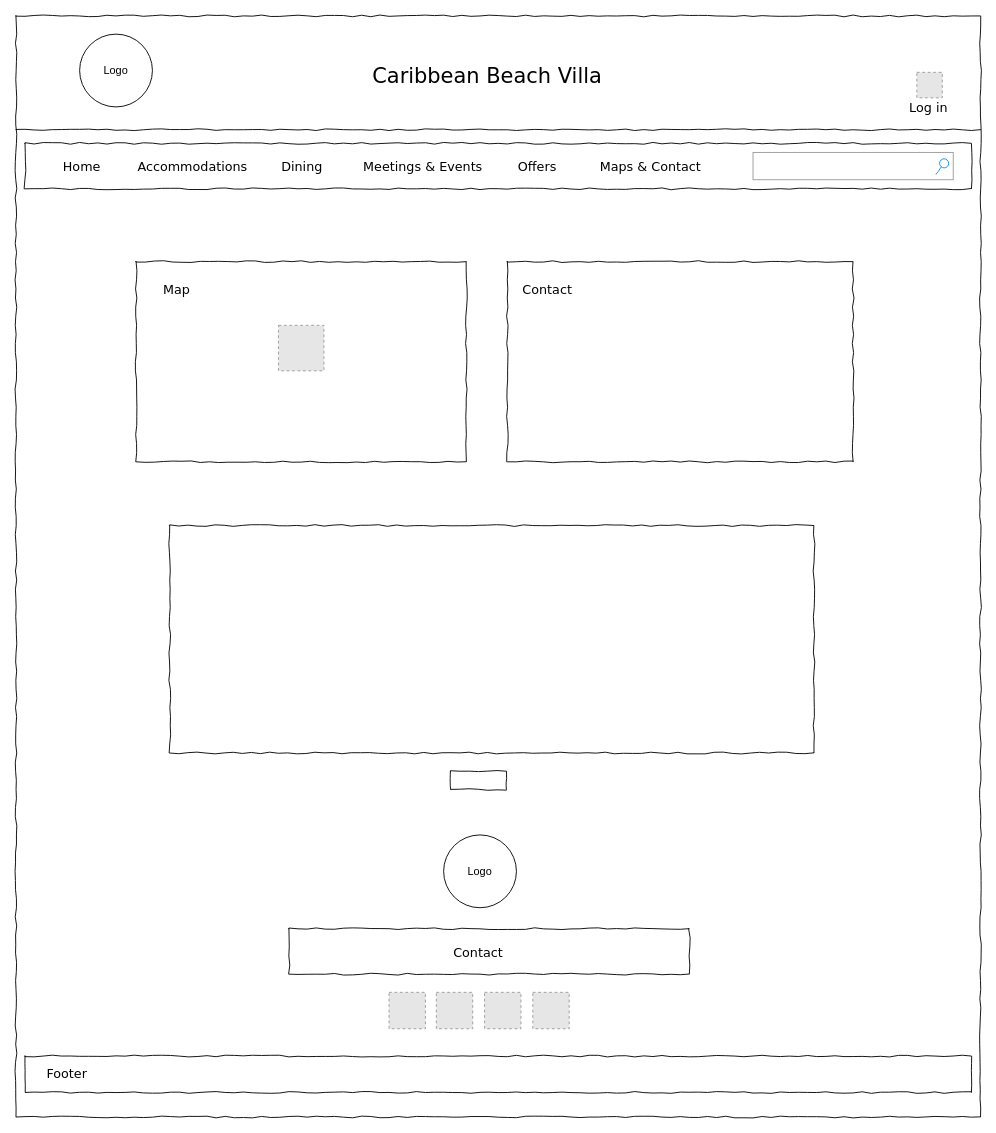
The diagram is 996 pixels wide and 1133 high, and some of its shapes have lost their labels. Grey dashed boxes stand in for pictures. The shapes that lost their labels are listed below. From the top down, each one's centre as x and y in pixels, then its label:
At point 852,166: "Search".
At point 491,639: "Feedback Form".
At point 478,779: "Submit".
